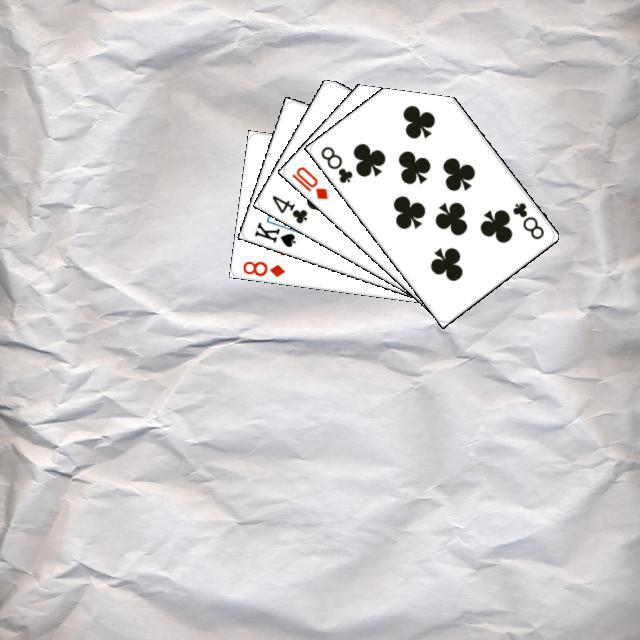10d: (287, 161, 329, 201)
4c: (267, 190, 309, 225)
8c: (507, 197, 546, 241), (316, 141, 354, 185)
8d: (238, 256, 286, 279)
Ks: (249, 217, 297, 249)
